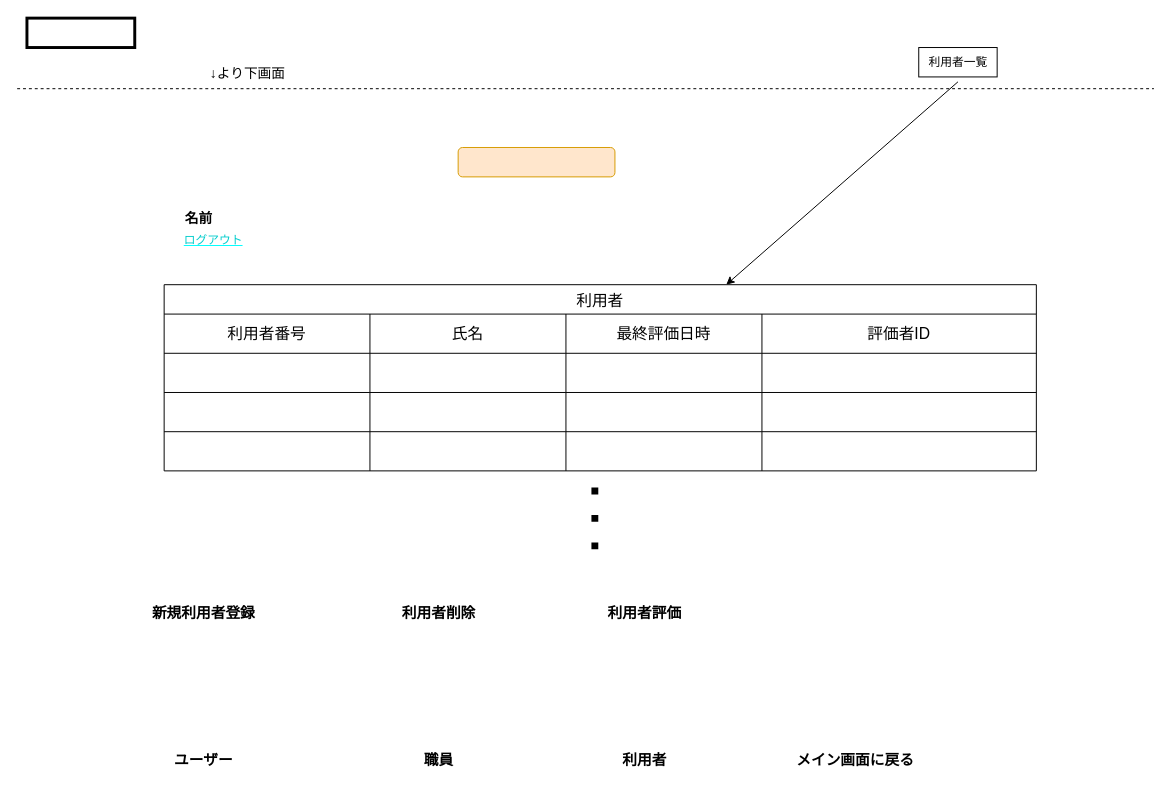
The diagram is 1172 pixels wide and 792 high, and some of its shapes have lost their labels. Here are the shapes that lost their labels. From the top down, the box of each, then its label:
(25, 16, 136, 49): customer.jsp
(457, 147, 615, 177): 人事評価システム（仮）
